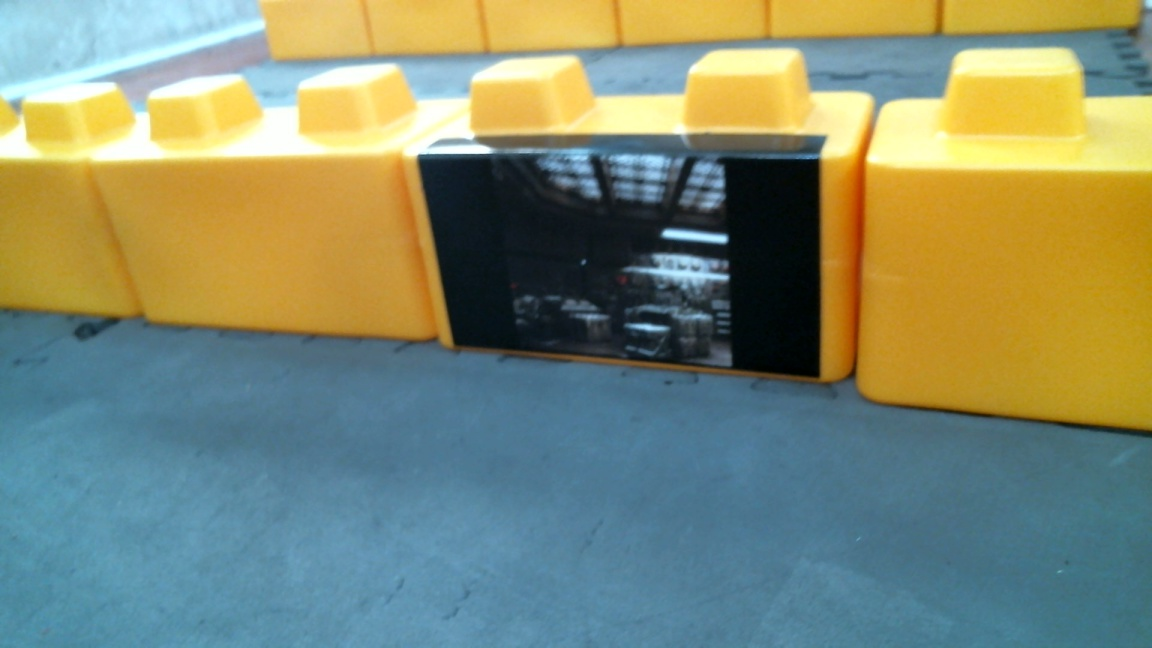skystone: (423, 56, 854, 384)
stone: (860, 44, 1152, 397), (84, 71, 416, 341), (1, 83, 137, 314)
